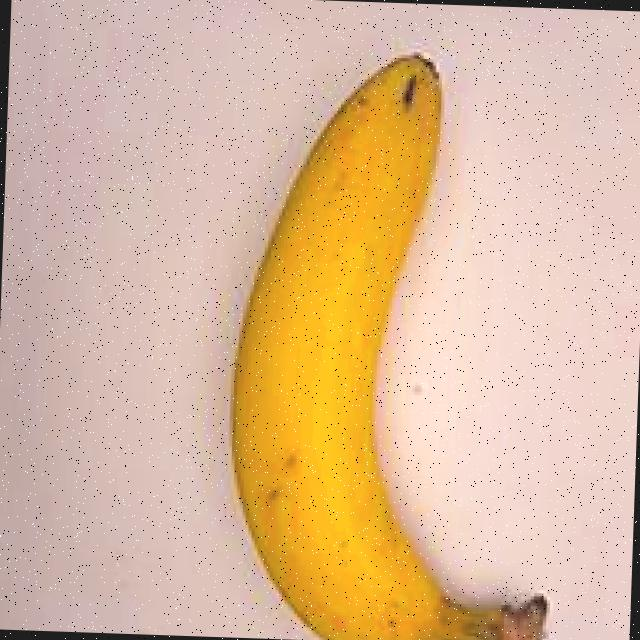Ripe: (183, 18, 595, 640)
